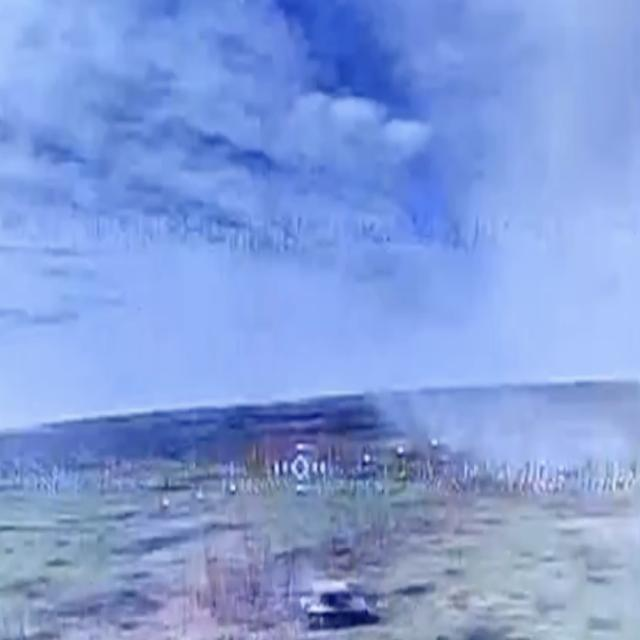vehicle: (300, 573, 380, 628)
